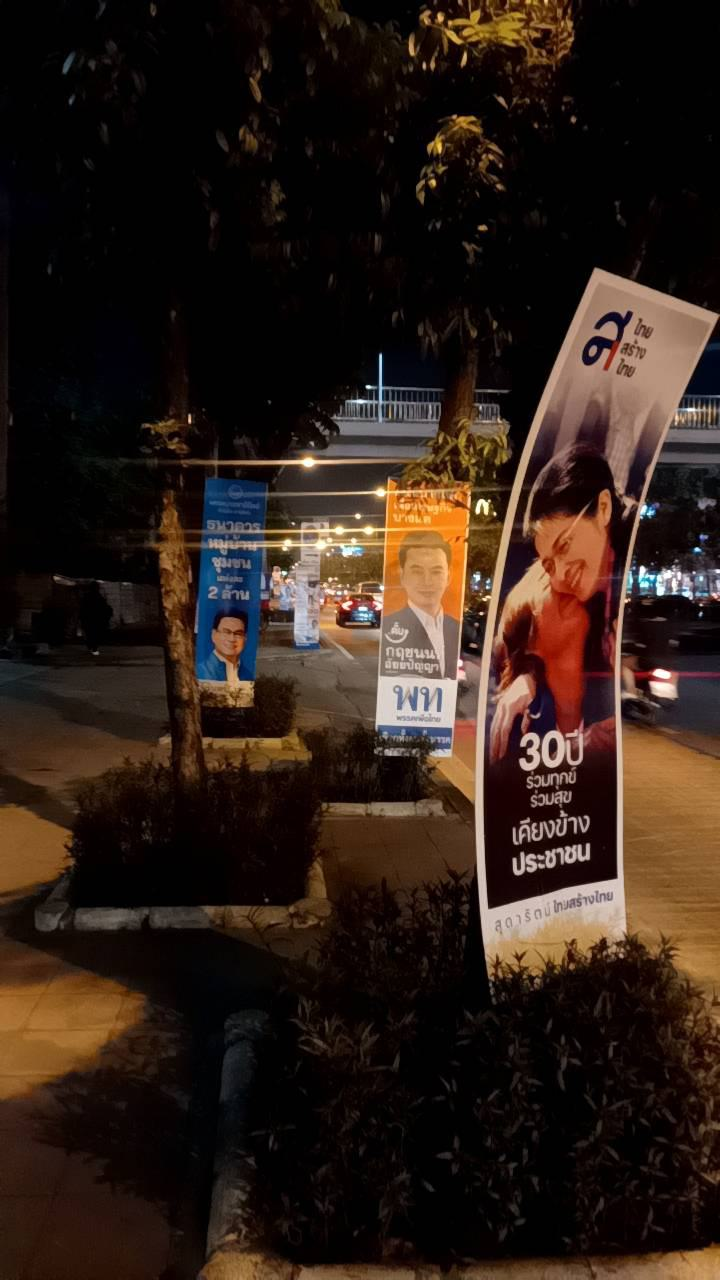Banner: (483, 289, 660, 939), (375, 475, 474, 747)
